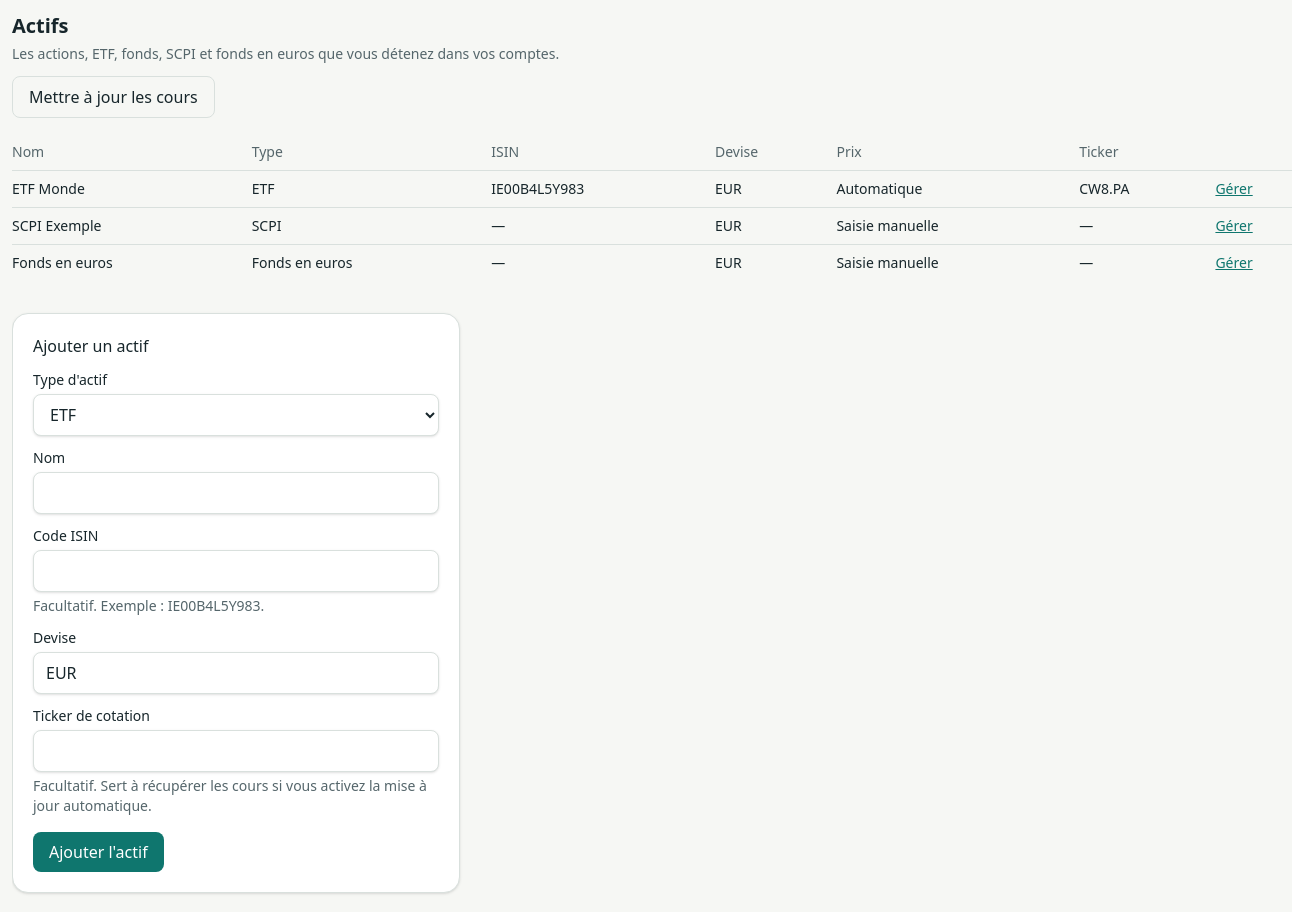
Test case: mise à jour des cours › signale un résultat partiel
Step 1. Click the button "Mettre à jour les cours" → (113, 97), box [12,76,215,118]
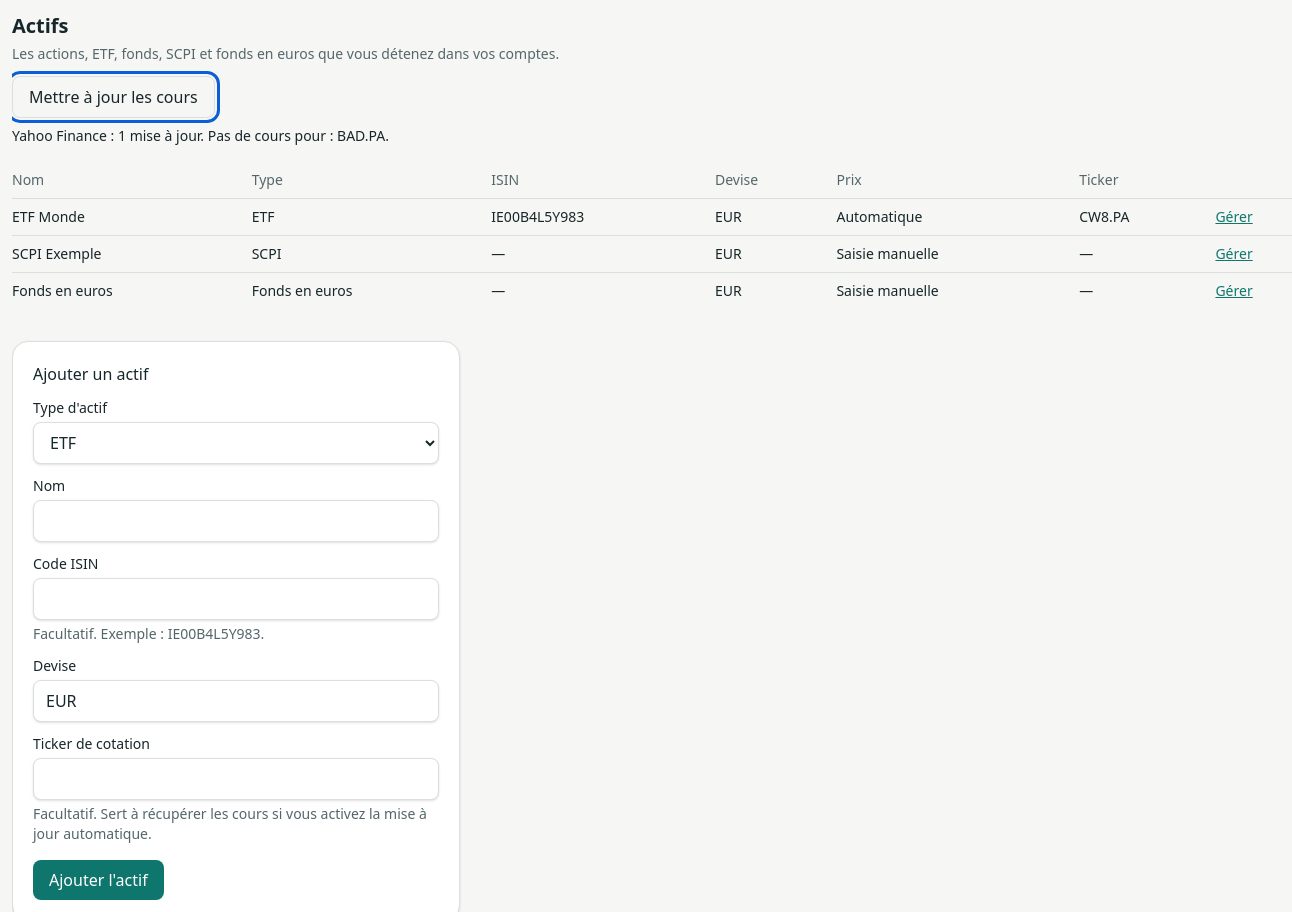
expect the message shows "Pas de cours pour : BAD.PA.": met, box [12,126,389,145]
